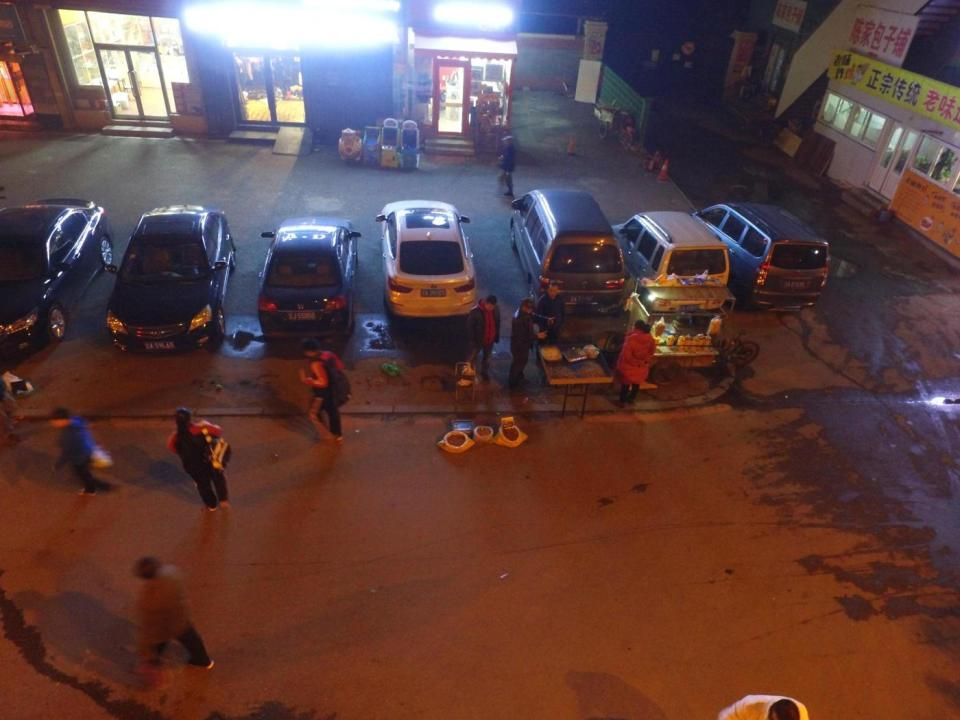car: (108, 204, 236, 352), (2, 199, 114, 363), (258, 216, 361, 340), (375, 200, 477, 320)
van: (692, 202, 832, 314), (511, 188, 625, 320), (613, 208, 730, 319)
